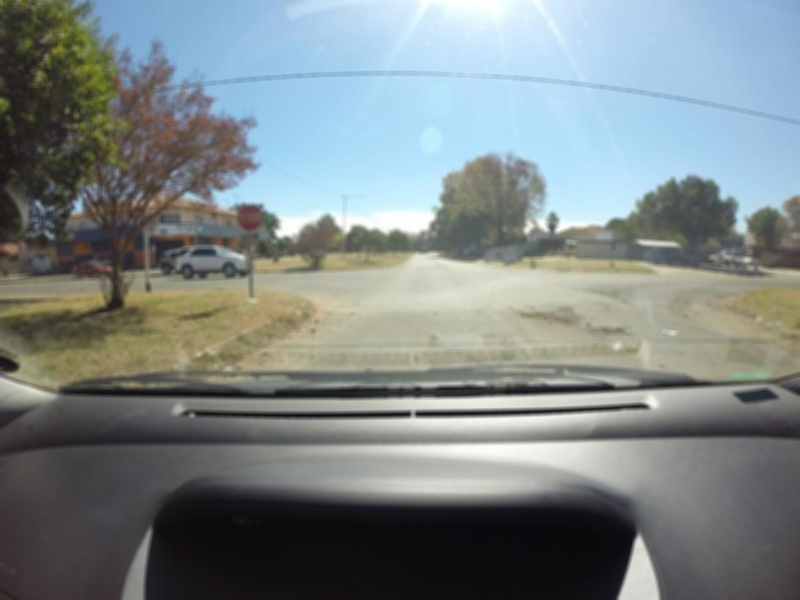pothole: (588, 326, 652, 347), (524, 307, 581, 323)
